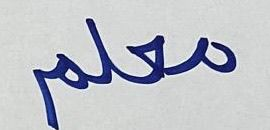dal: (84, 13, 118, 85)
kaf: (120, 33, 177, 87)
meem: (24, 50, 83, 130), (180, 32, 240, 86)
